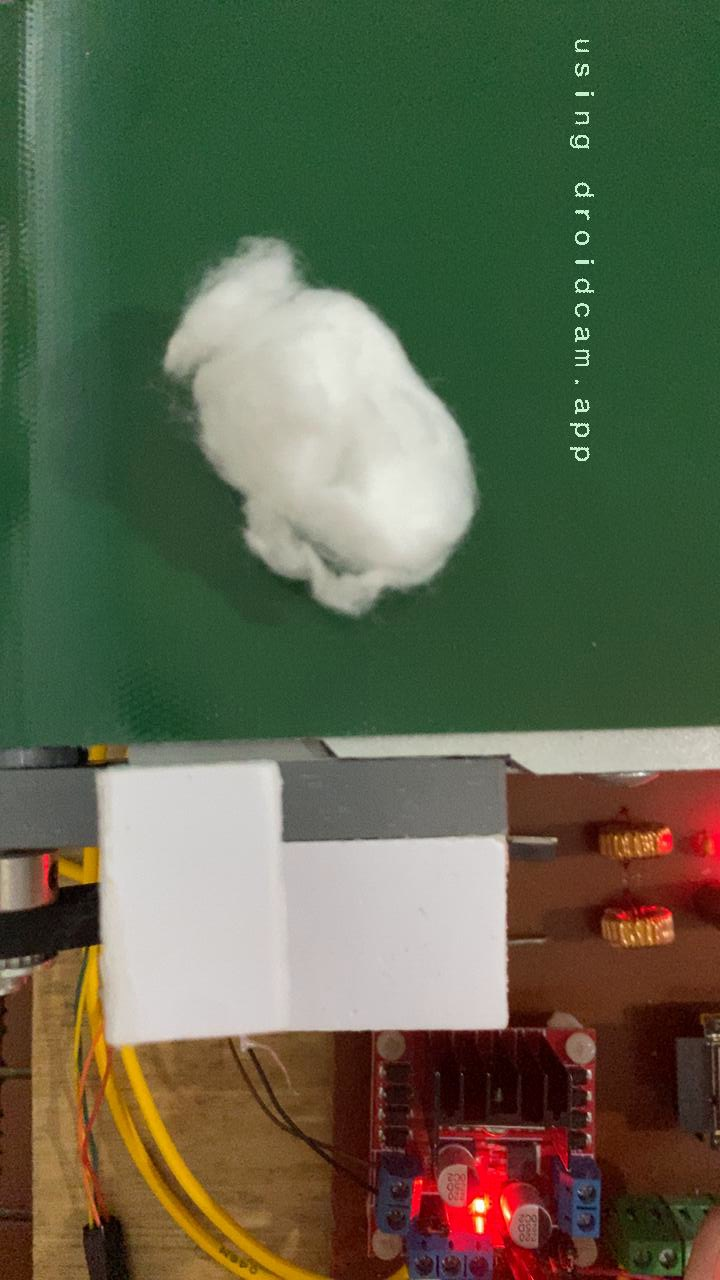cotton: (158, 233, 484, 622)
